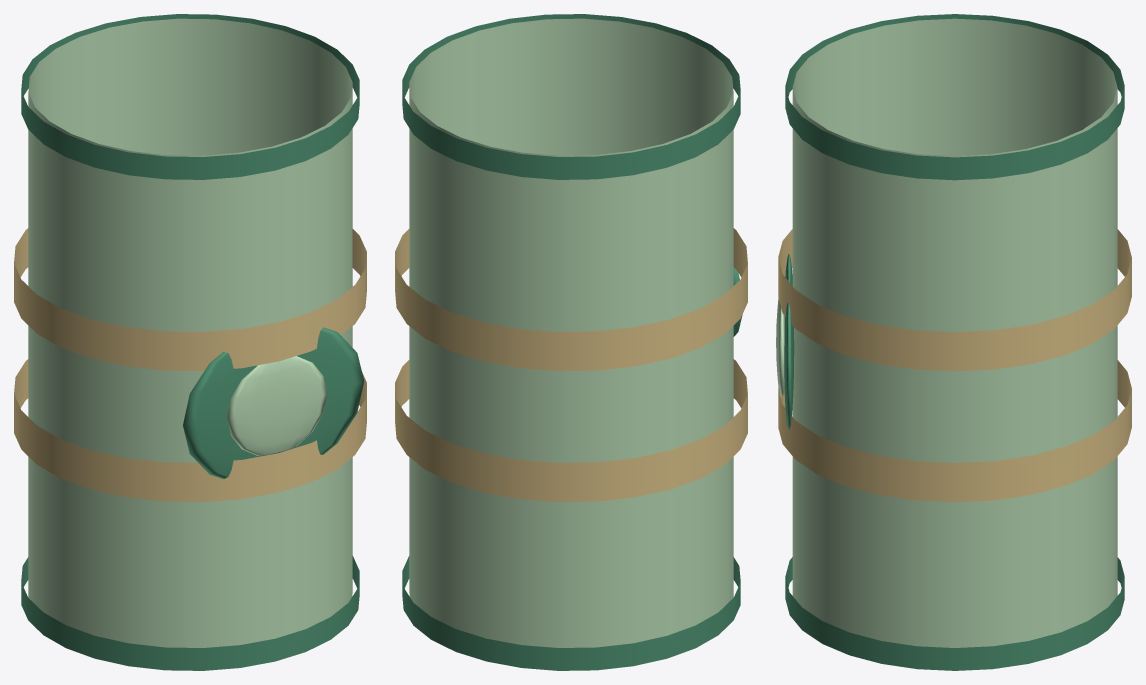
The model's file is dollars.gltf.
3 views of the same model, side by side, from view 1: azimuth 30°, elevation 25°; view 2: azimuth 150°, elevation 25°; view 3: azimuth 270°, elevation 25° (orthographic).
Size of the model in its own units: 0.98 by 1.57 by 0.986.
